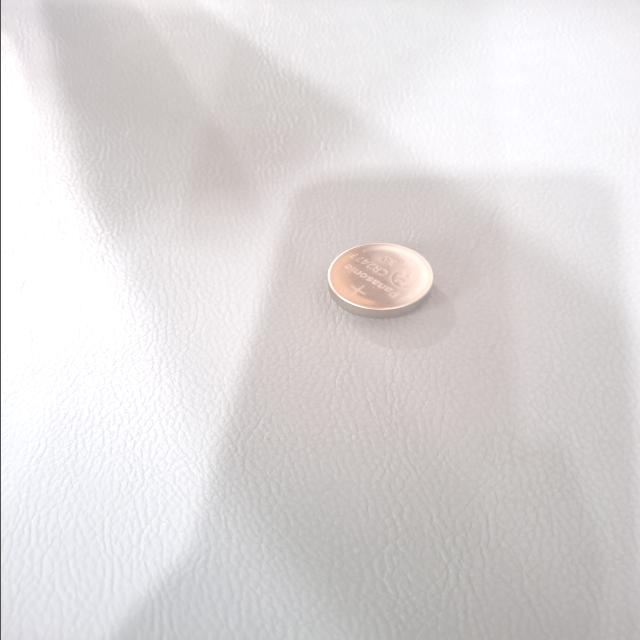COIN: (215, 243, 320, 327)
